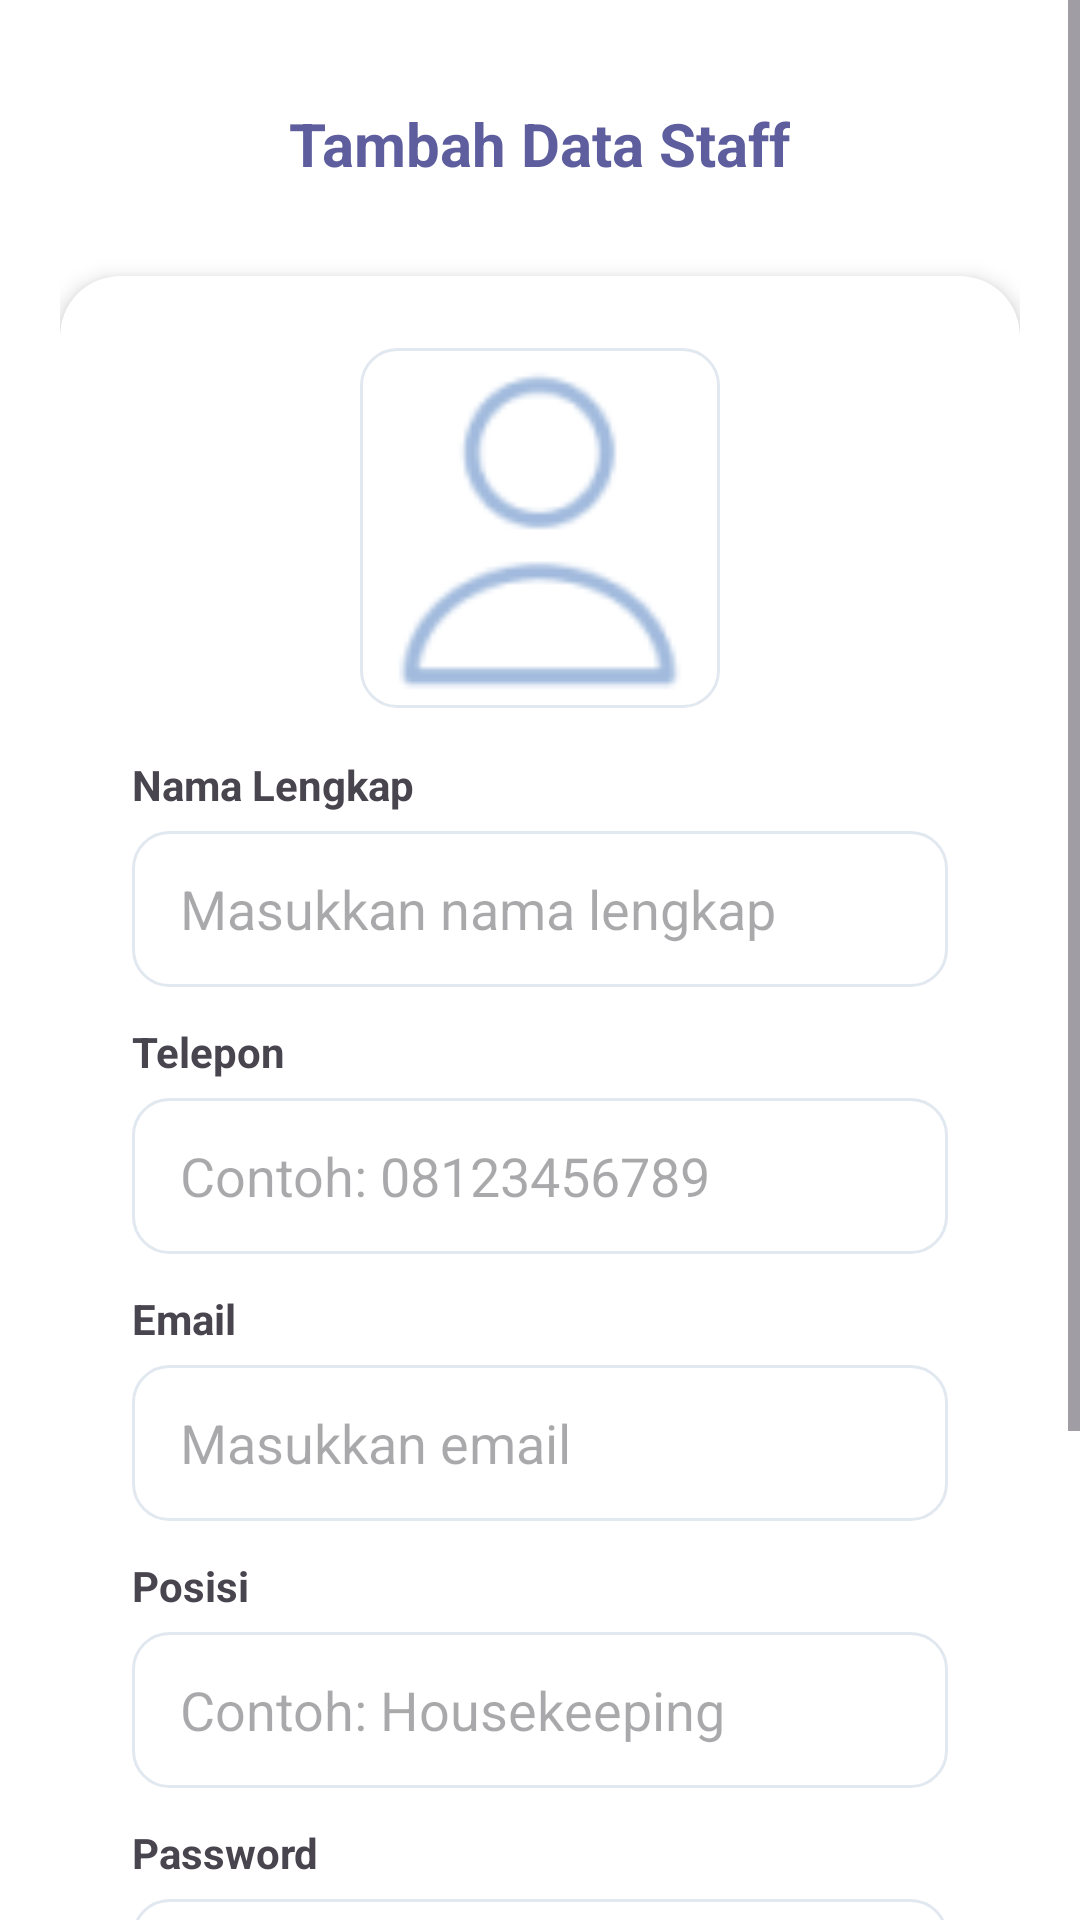

Icons on this 1080px x 1920px Android screen, each with the point to tap as [x,y]:
profile: [540,528]
